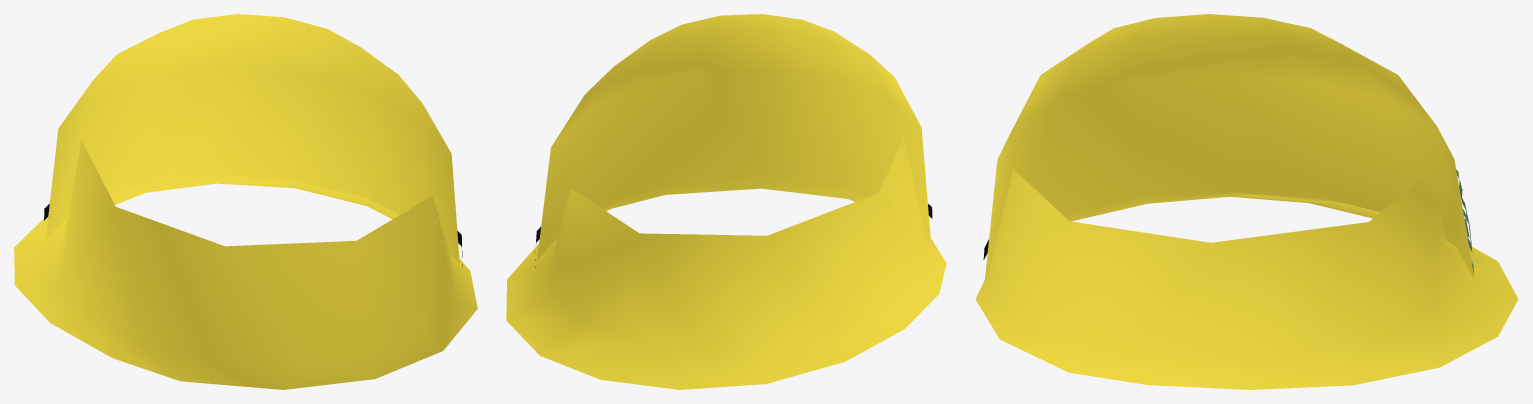
The model's file is ps2_save-icons_bcvbattleconstructionvehicles.glb.
3 views of the same model, side by side, from view 1: azimuth 30°, elevation 25°; view 2: azimuth 150°, elevation 25°; view 3: azimuth 270°, elevation 25° (orthographic). The views are drawn at different scales.
Parts seen in each view (by area): view 1: helmet.ico; view 2: helmet.ico; view 3: helmet.ico.
Boxes of the visible parts, x1=… form: helmet.ico: x1=14, y1=14, x2=477, y2=389; helmet.ico: x1=506, y1=14, x2=946, y2=389; helmet.ico: x1=975, y1=14, x2=1518, y2=389.
Size of the model in its own units: 3.98 by 2.55 by 4.69.
Materials: 1 (1 with a texture image).
